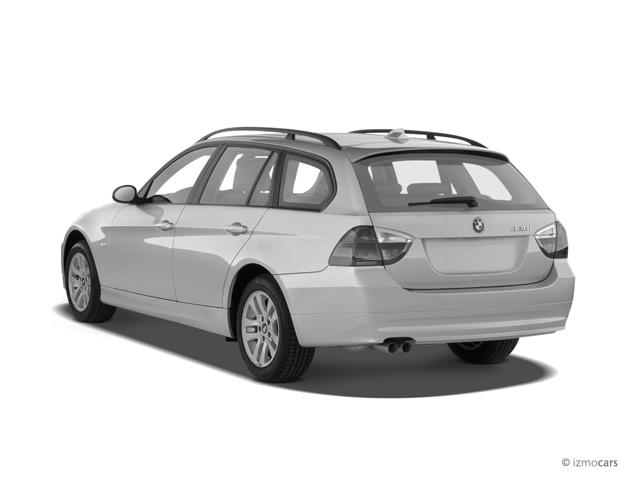car: (61, 128, 576, 387)
